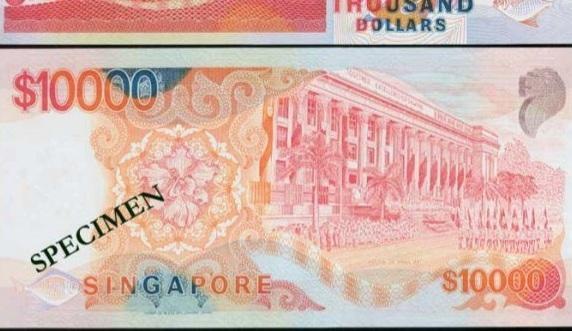10000SingaporeDollar: (0, 49, 572, 323)
